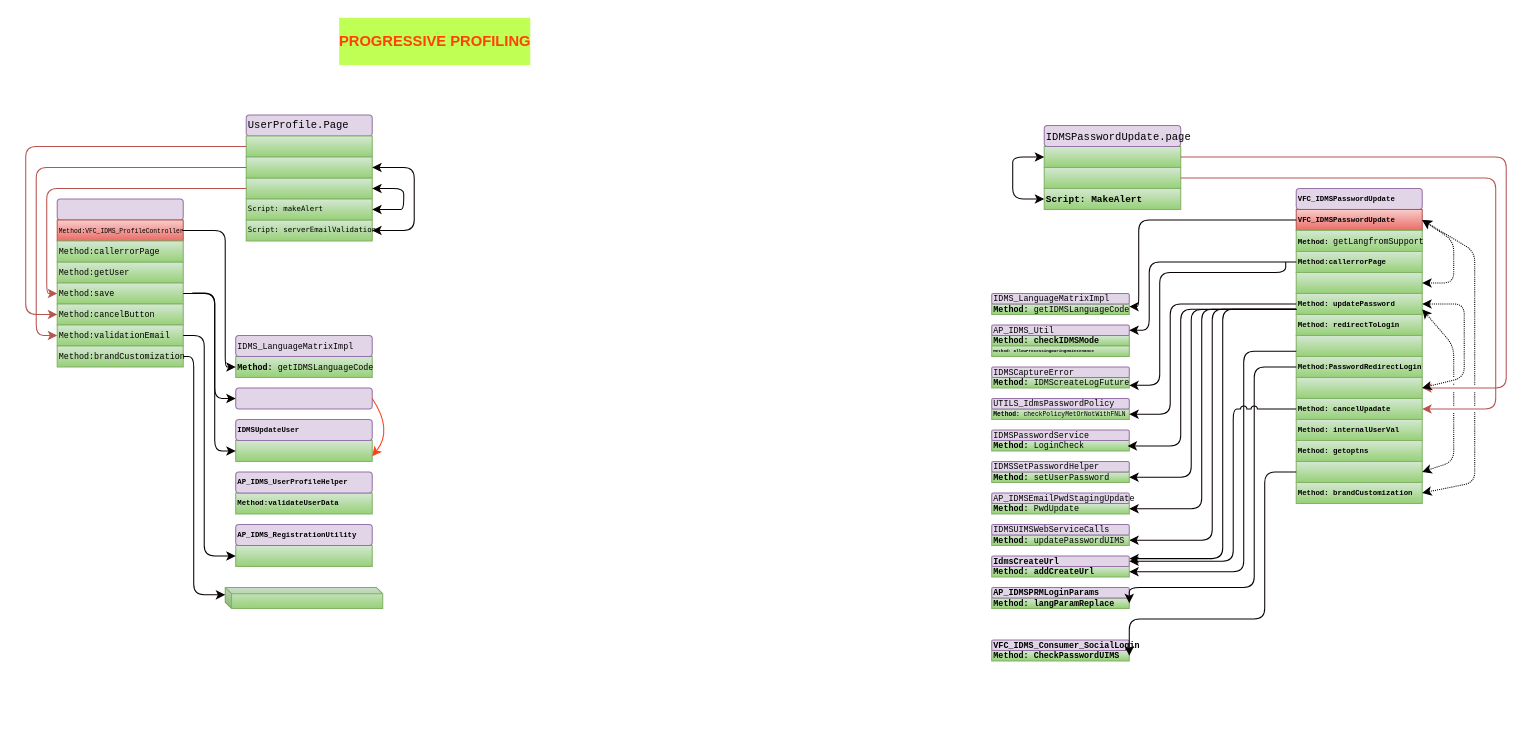
Image size: 1533x755. Some labels were removed from this diagram. The shapes that lost their labels are listed below. From the top down, each one's centre as x and y in pixels, then its label:
the point at 308,146: Action: cancelUpdate
the point at 1112,156: Action: UpdatePwdinJavascript
the point at 308,167: Action: validateEmailServ
the point at 1112,177: Action: cancelUpdateActFun
the point at 308,188: Action: usrUpdate
the point at 119,209: VFC_IDMS_ProfileController
the point at 1358,282: Method: findDomain
the point at 1358,345: RemoteAction: profileRedirect2
the point at 303,398: IDMSResponseWrapper
the point at 1358,387: Method: errorMsgProcess
the point at 303,450: Method: updateUser
the point at 1358,471: Method: CheckUimsOldPwd
the point at 303,555: Method: validateEmail
the point at 303,597: IDMS_ApplicationBrandingMatrix__mdt
